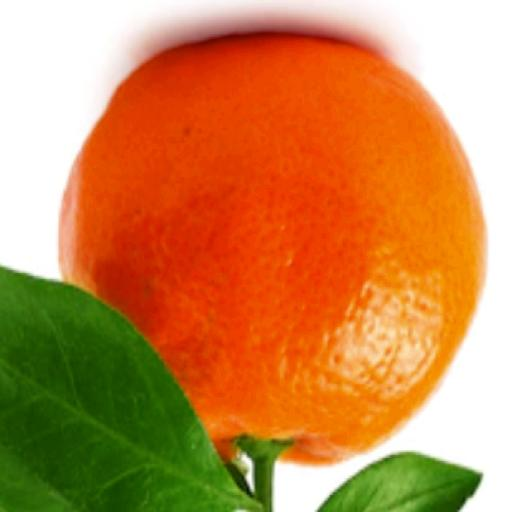orange: (59, 35, 484, 463)
